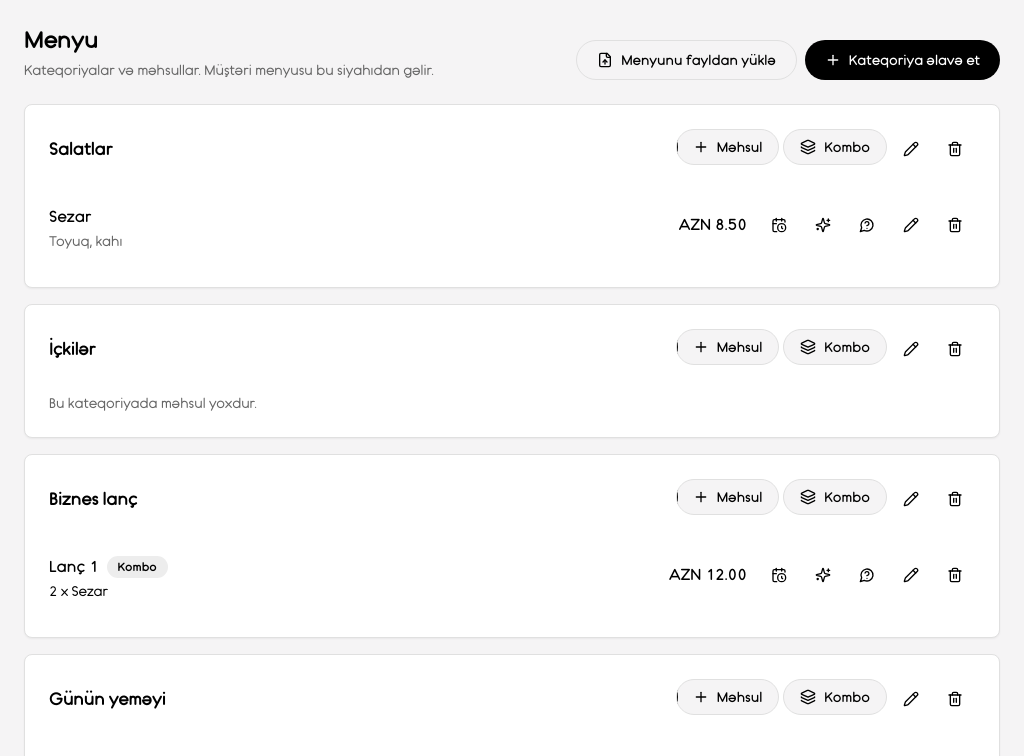
Scenario: MenuPage (#137) › explains why a category with dishes cannot be deleted
Click the button named "Salatlar kateqoriyasını sil".
click(955, 149)  # box left=935, top=129, right=975, bottom=169
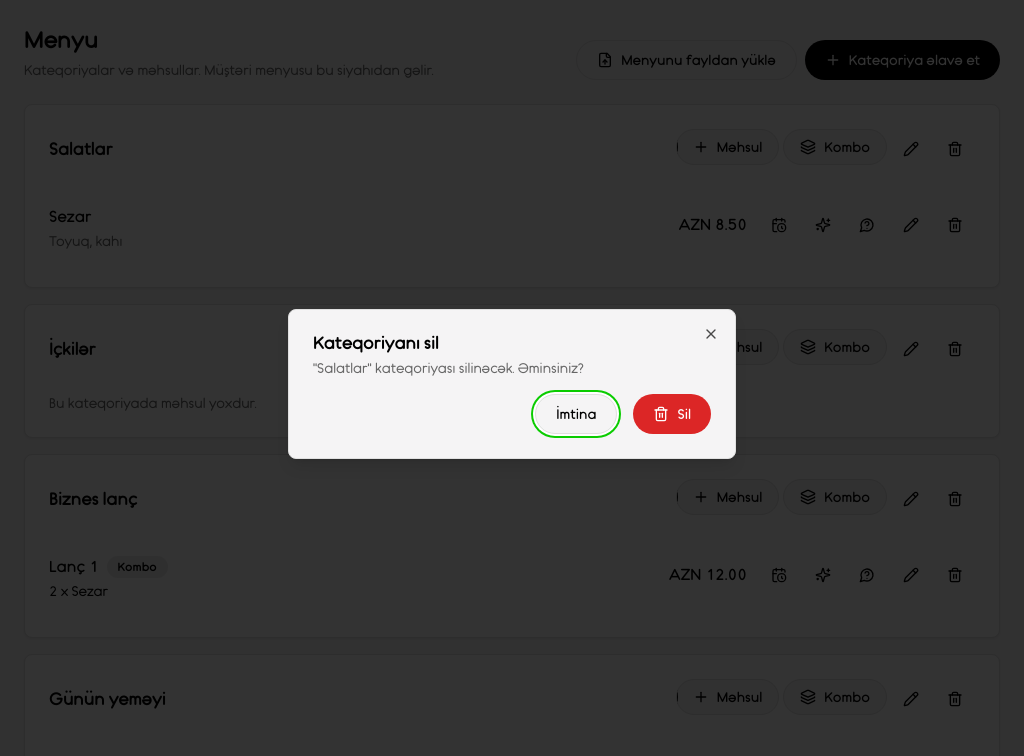
Click the button "Sil".
click(672, 414)  # box left=633, top=394, right=711, bottom=434
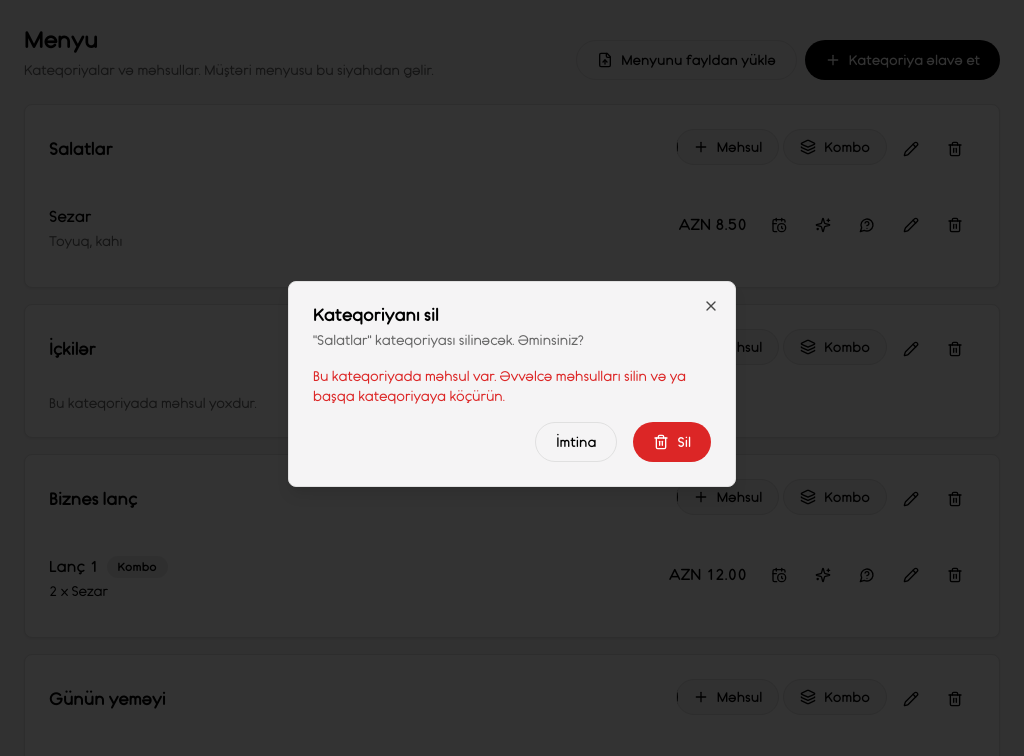
Expected: the text "Bu kateqoriyada məhsul var" is shown, left=313, top=368, right=686, bottom=404
